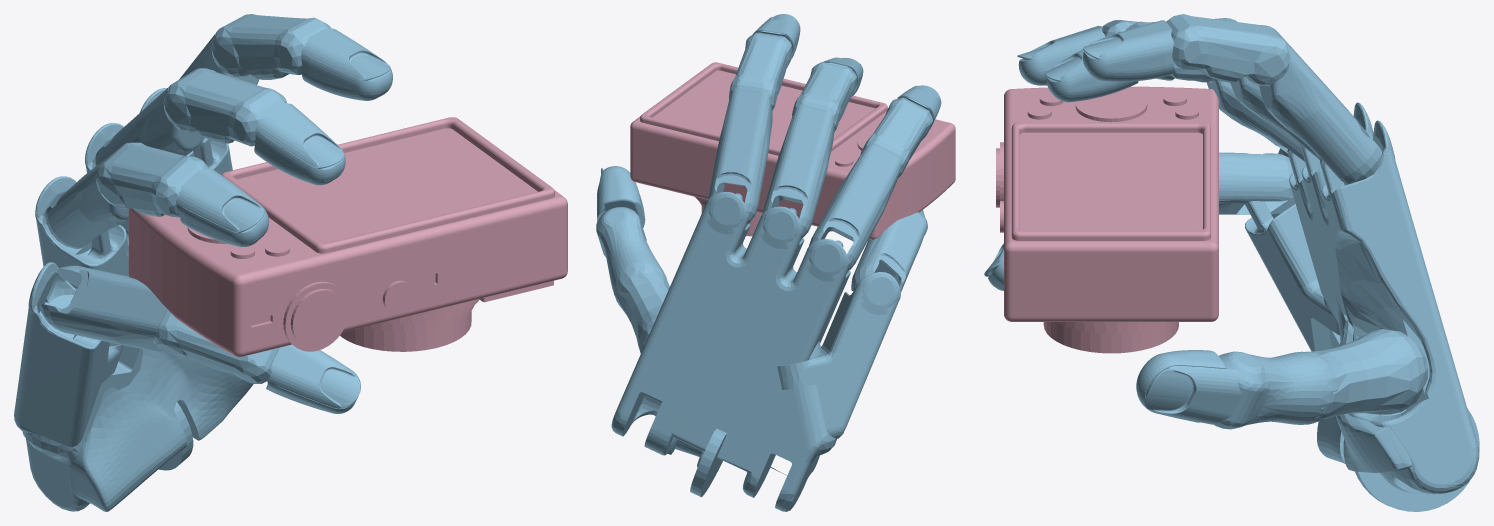
3 renders of one model, left to right at view 1: azimuth 30°, elevation 25°; view 2: azimuth 150°, elevation 25°; view 3: azimuth 270°, elevation 25°, orthographic. The views are drawn at different scales.
Parts seen in each view (by area): view 1: world, camera.stl; view 2: world, camera.stl; view 3: world, camera.stl.
Part boxes in pixels (x1,y1,x2,y2): world: (14, 14, 392, 511); camera.stl: (128, 117, 567, 357); world: (596, 14, 941, 511); camera.stl: (630, 62, 955, 239); world: (984, 14, 1479, 511); camera.stl: (996, 86, 1218, 353).
Size of the model in its own units: 0.1584 by 0.1712 by 0.1491.
